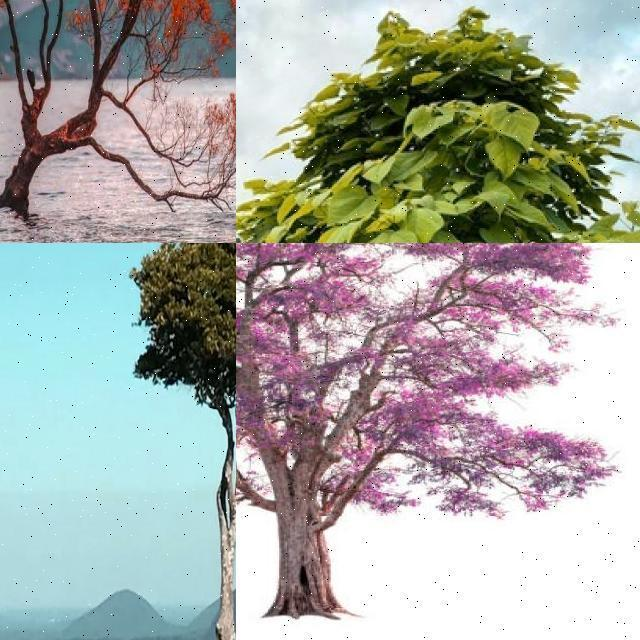tree: (236, 244, 640, 616), (236, 18, 640, 242), (0, 0, 236, 244), (134, 243, 236, 640)
